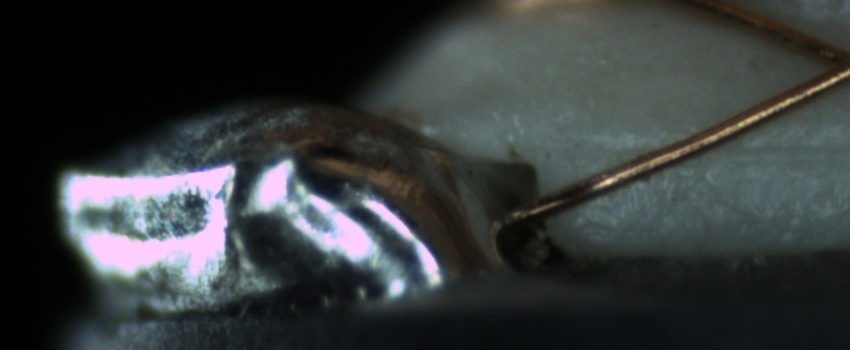CL: (798, 26, 849, 97)
DL: (608, 113, 850, 183)
